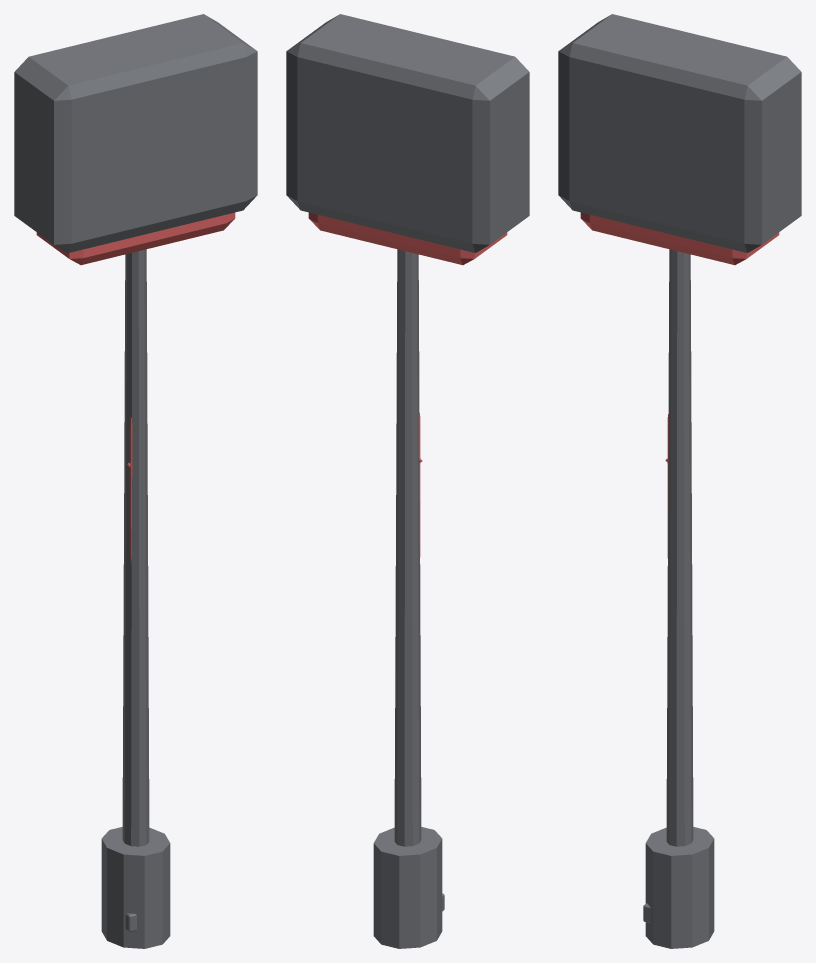
File: b18_single_banner_street_standard.glb
3 views of the same model, side by side, from view 1: azimuth 30°, elevation 25°; view 2: azimuth 150°, elevation 25°; view 3: azimuth 330°, elevation 25° (orthographic).
Parts seen in each view (by area): view 1: b18_single_banner_street_standard; view 2: b18_single_banner_street_standard; view 3: b18_single_banner_street_standard.
Part boxes in pixels (left/top/right/bottom): b18_single_banner_street_standard: left=14, top=14, right=257, bottom=948; b18_single_banner_street_standard: left=286, top=14, right=529, bottom=948; b18_single_banner_street_standard: left=558, top=14, right=801, bottom=948.
Size of the model in its own units: 1.02 by 4.24 by 0.4.
